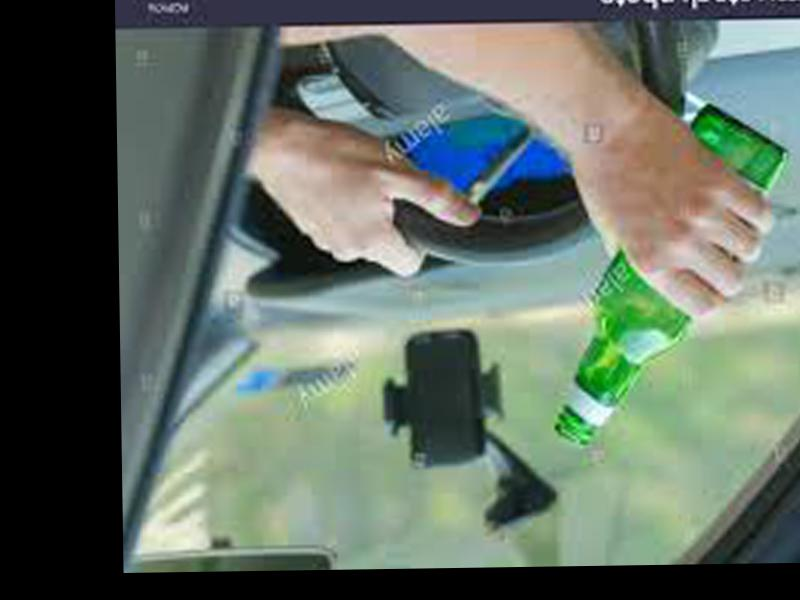Beer: (552, 99, 783, 441)
